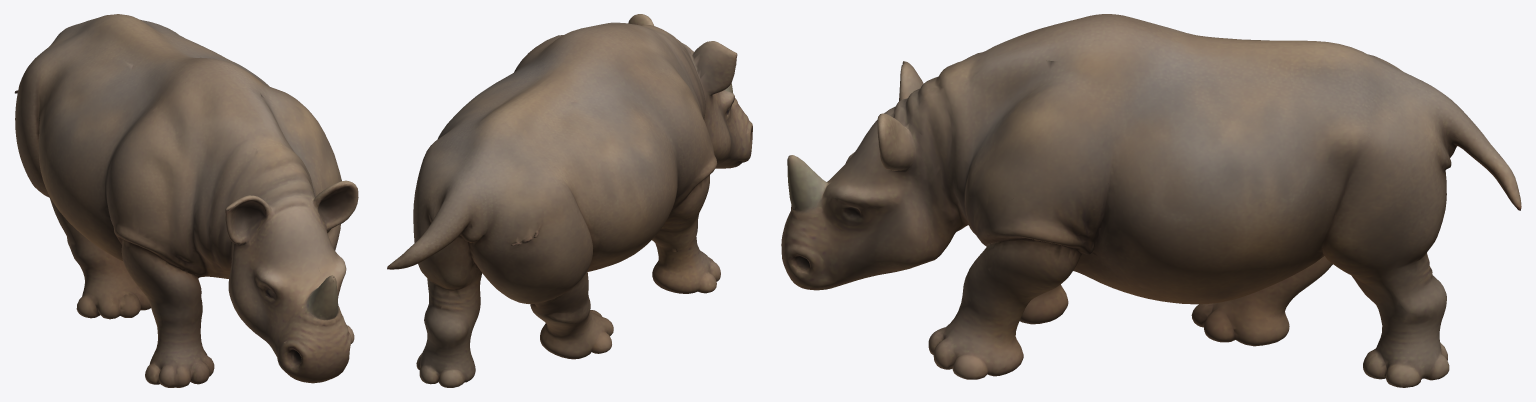
The picture shows the model from 3 angles, left to right: view 1: azimuth 30°, elevation 25°; view 2: azimuth 150°, elevation 25°; view 3: azimuth 270°, elevation 25°; orthographic projection. The views are drawn at different scales.
Parts seen in each view (by area): view 1: world; view 2: world; view 3: world.
Boxes of the visible parts, x1,y1,x2,y2 form: world: (14, 14, 358, 387); world: (387, 14, 752, 387); world: (781, 14, 1521, 387).
Size of the model in its own units: 1.46 by 1.77 by 3.5.
1 material, 1 textured.
